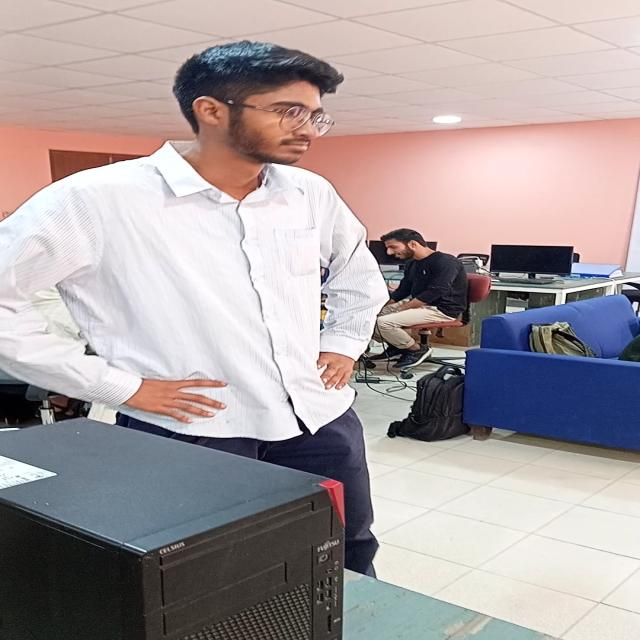dress: (0, 134, 390, 448)
glasses: (265, 98, 339, 134)
